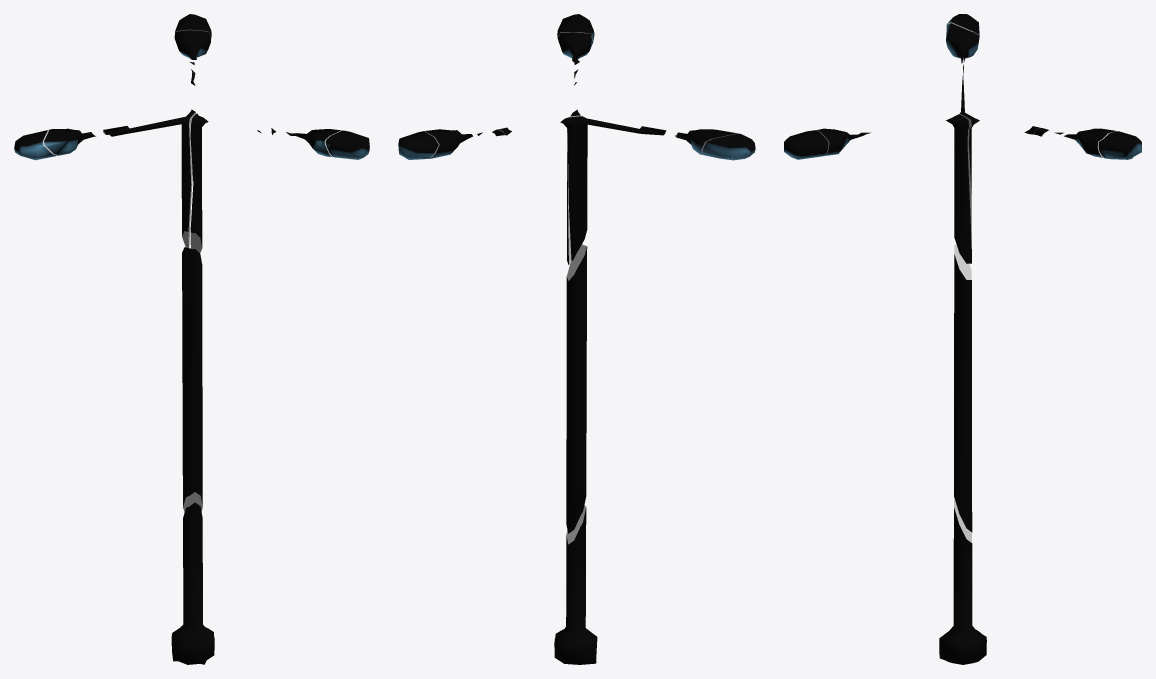
The model's file is Street Lights(1).glb.
3 renders of one model, left to right at view 1: azimuth 30°, elevation 25°; view 2: azimuth 150°, elevation 25°; view 3: azimuth 270°, elevation 25°, orthographic.
Parts seen in each view (by area): view 1: Root.010, Root, Root.002, Root.012, Root.013, Root.011, Root.009, Root.001, Root.003; view 2: Root.010, Root, Root.002, Root.001, Root.019, Root.003, Root.009, Root.011, Root.013; view 3: Root.010, Root, Root.012, Root.013, Root.019, Root.011, Root.009, Root.003, Root.002.
Part boxes in pixels (left/top/right/bottom): Root.010: left=182, top=247, right=202, bottom=512; Root: left=171, top=502, right=214, bottom=664; Root.002: left=103, top=109, right=195, bottom=247; Root.012: left=190, top=113, right=208, bottom=252; Root.013: left=325, top=130, right=369, bottom=159; Root.011: left=44, top=128, right=95, bottom=155; Root.009: left=174, top=30, right=210, bottom=64; Root.001: left=14, top=130, right=56, bottom=160; Root.003: left=286, top=129, right=341, bottom=157; Root.010: left=566, top=244, right=587, bottom=533; Root: left=554, top=505, right=597, bottom=664; Root.002: left=560, top=116, right=666, bottom=261; Root.001: left=702, top=133, right=755, bottom=160; Root.019: left=398, top=131, right=438, bottom=159; Root.003: left=558, top=32, right=593, bottom=64; Root.009: left=425, top=129, right=482, bottom=158; Root.011: left=675, top=129, right=737, bottom=154; Root.013: left=557, top=14, right=594, bottom=40; Root.010: left=954, top=244, right=972, bottom=532; Root: left=939, top=499, right=986, bottom=664; Root.012: left=946, top=114, right=971, bottom=263; Root.013: left=784, top=130, right=828, bottom=159; Root.019: left=1098, top=131, right=1141, bottom=159; Root.011: left=946, top=23, right=978, bottom=63; Root.009: left=1054, top=128, right=1116, bottom=157; Root.003: left=815, top=128, right=870, bottom=156; Root.002: left=959, top=64, right=979, bottom=240.
Bounding box in the file's own units: 1.08 × 2.12 × 1.23.
